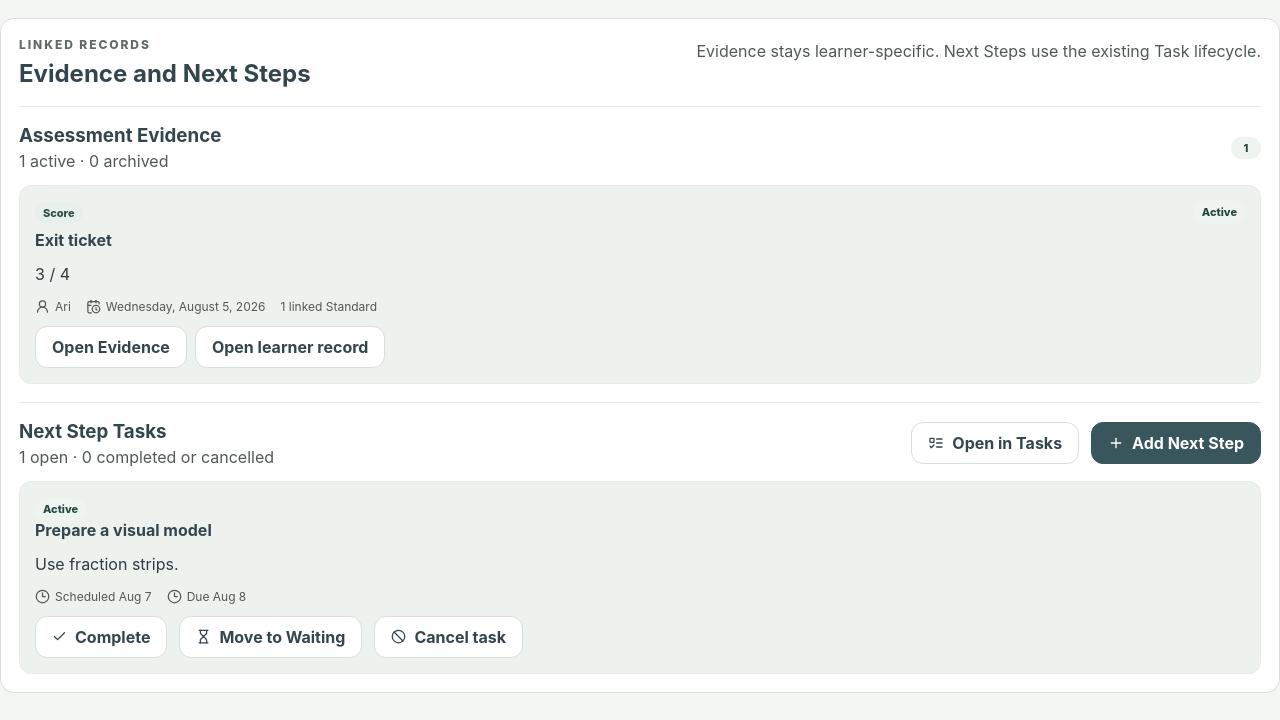
TeachingReflectionRelatedRecords › creates a context-locked Next Step with scheduled and due values
Click the button "Add Next Step": (1176, 443) [1091, 422, 1261, 464]
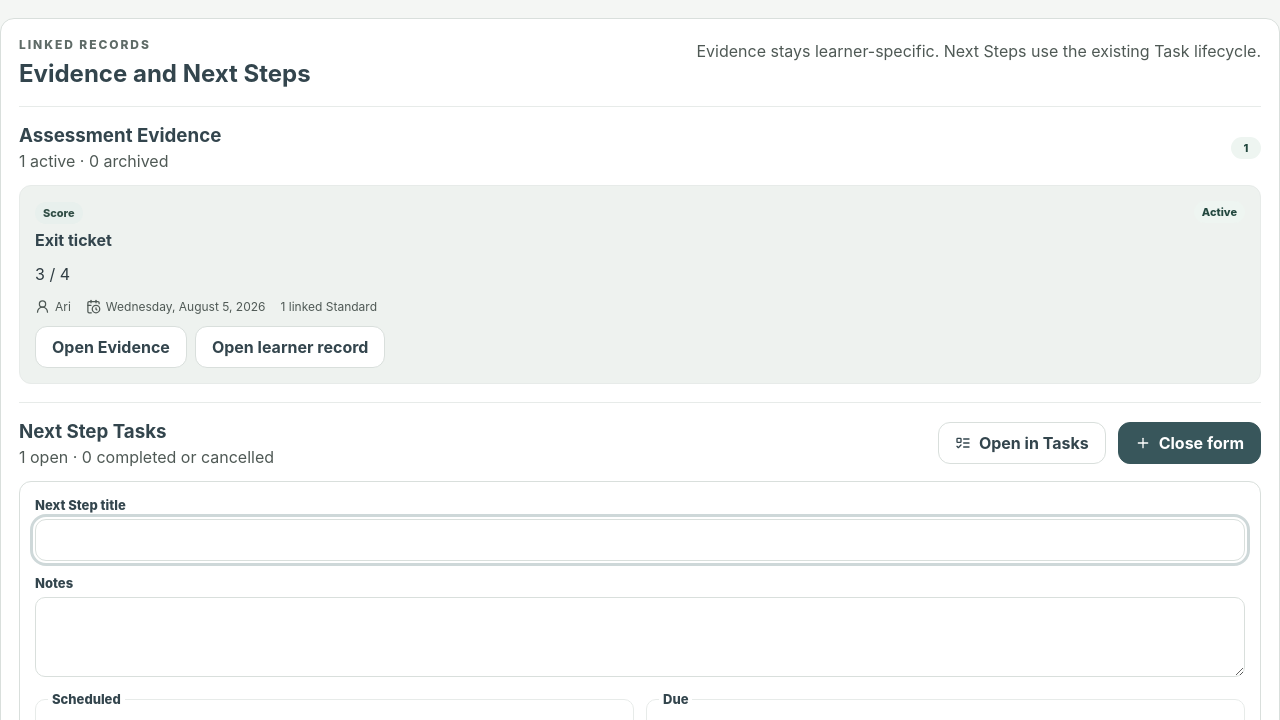
In the field labelled "Next Step title": (640, 540) [35, 519, 1245, 561], type "Prepare comparison cards"
In the text box labelled "Notes": (640, 637) [35, 597, 1245, 677], type "Print two sets."
(page scrolled)
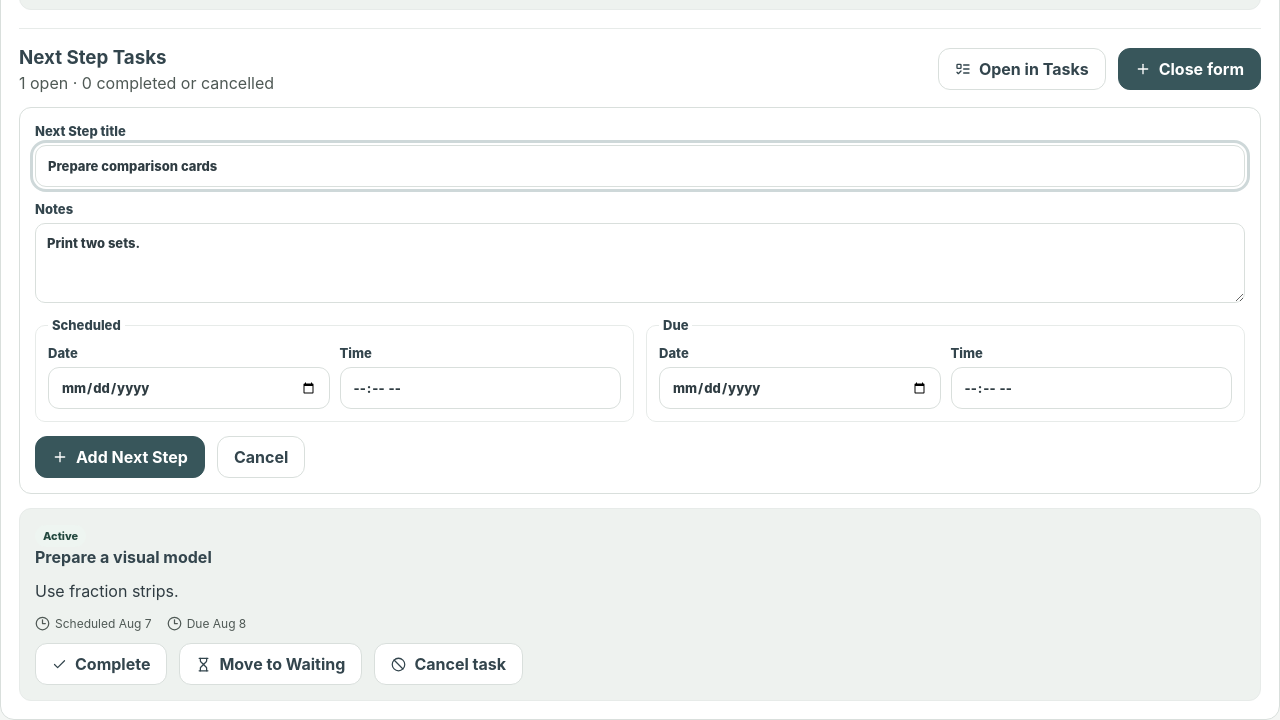
In the 1st date field labelled "Date": (189, 388) [48, 367, 330, 409], type "2026-08-10"
In the 1st time field labelled "Time": (480, 388) [340, 367, 621, 409], type "15:30"
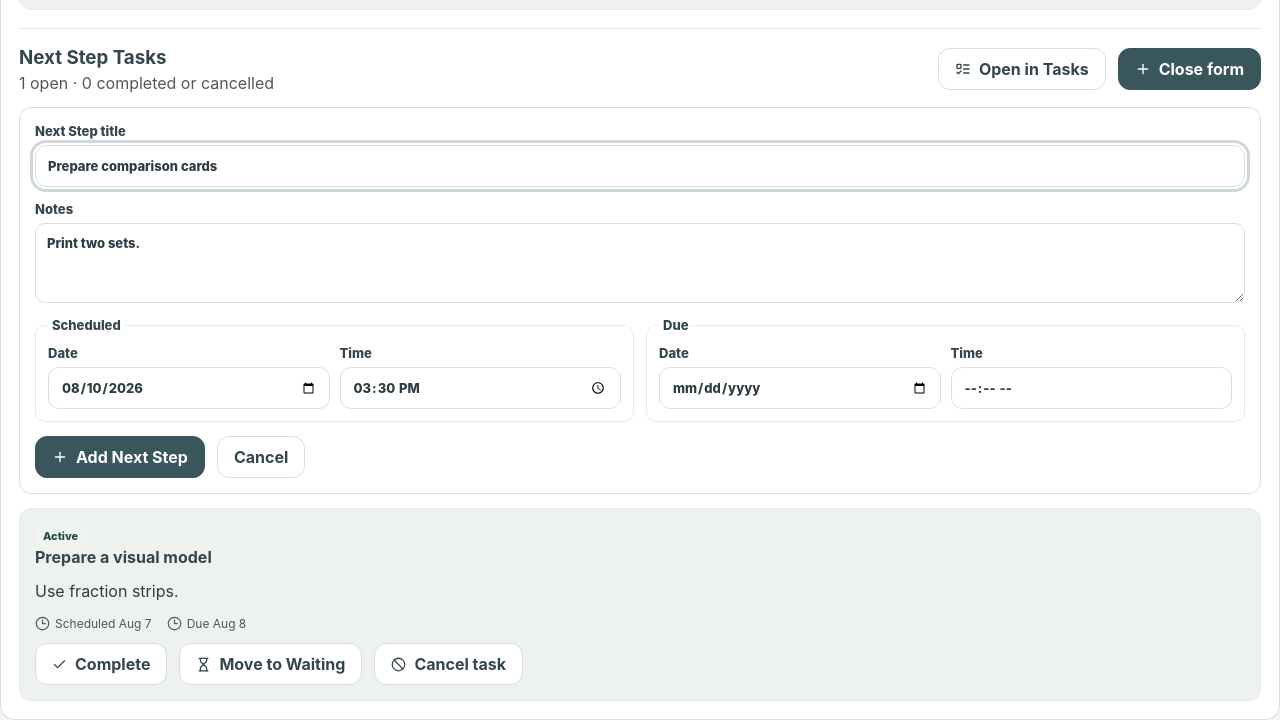
In the 2nd date field labelled "Date": (800, 388) [659, 367, 940, 409], type "2026-08-11"
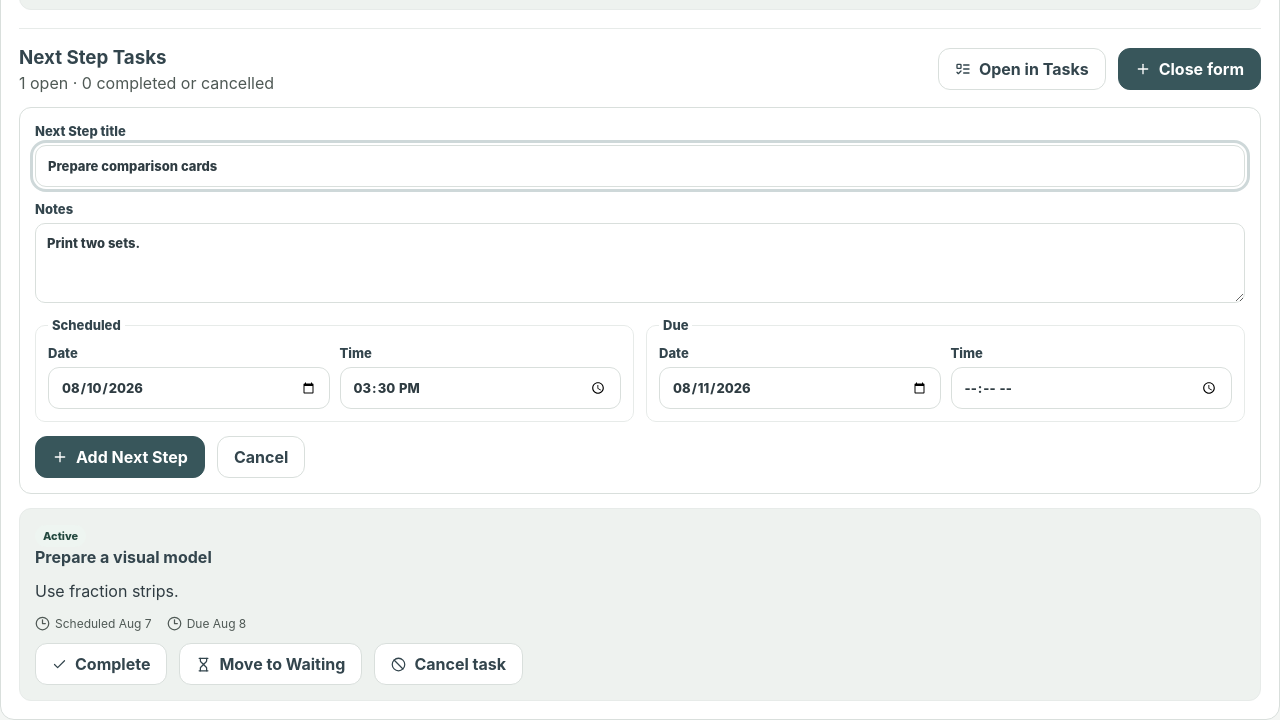
In the 2nd time field labelled "Time": (1091, 388) [950, 367, 1232, 409], type "09:15"
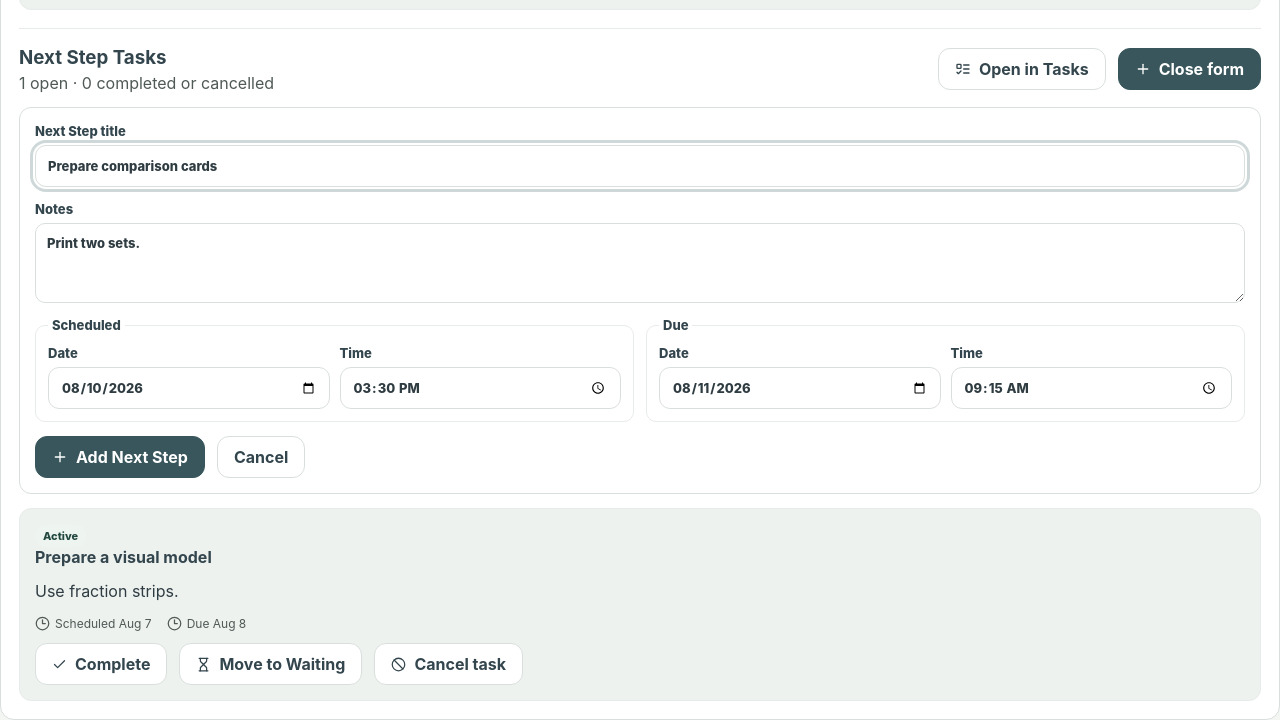
Click the button "Add Next Step": (120, 457) [35, 436, 205, 478]
(page scrolled)
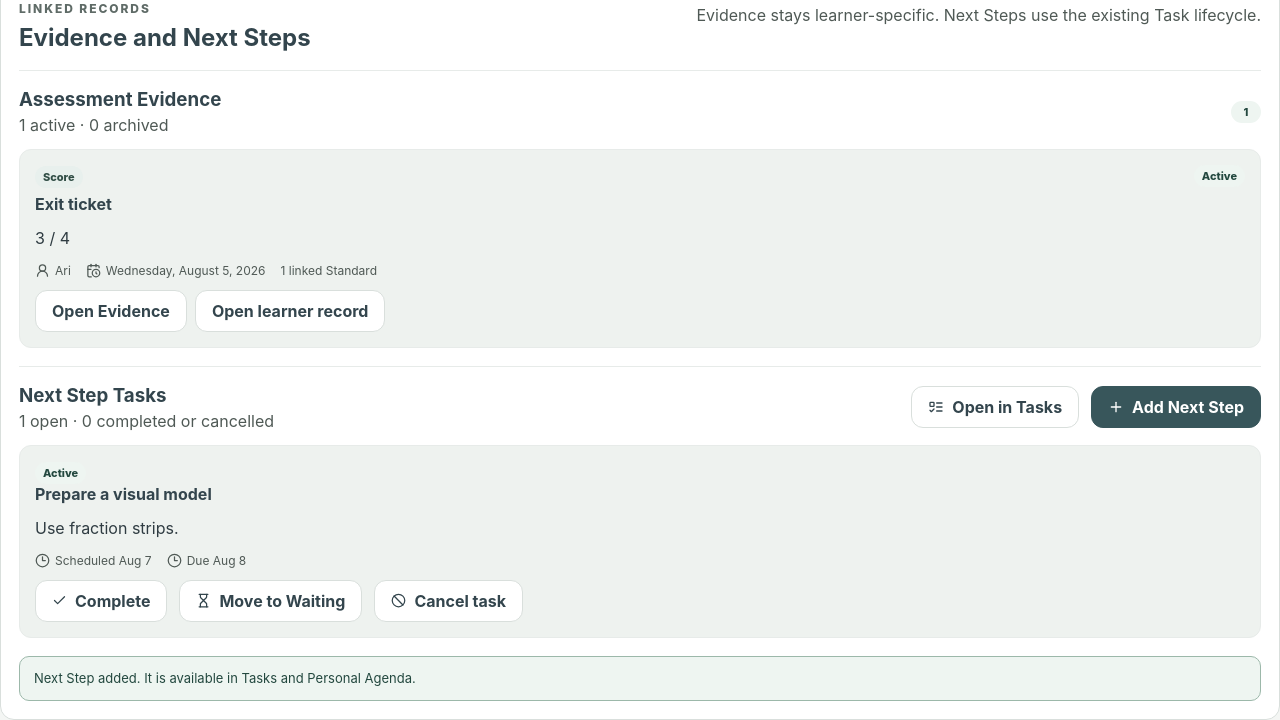
Check: the message shows "Next Step added.", box [34, 670, 416, 686]
